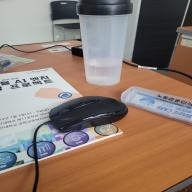Mouse: (48, 95, 129, 133)
